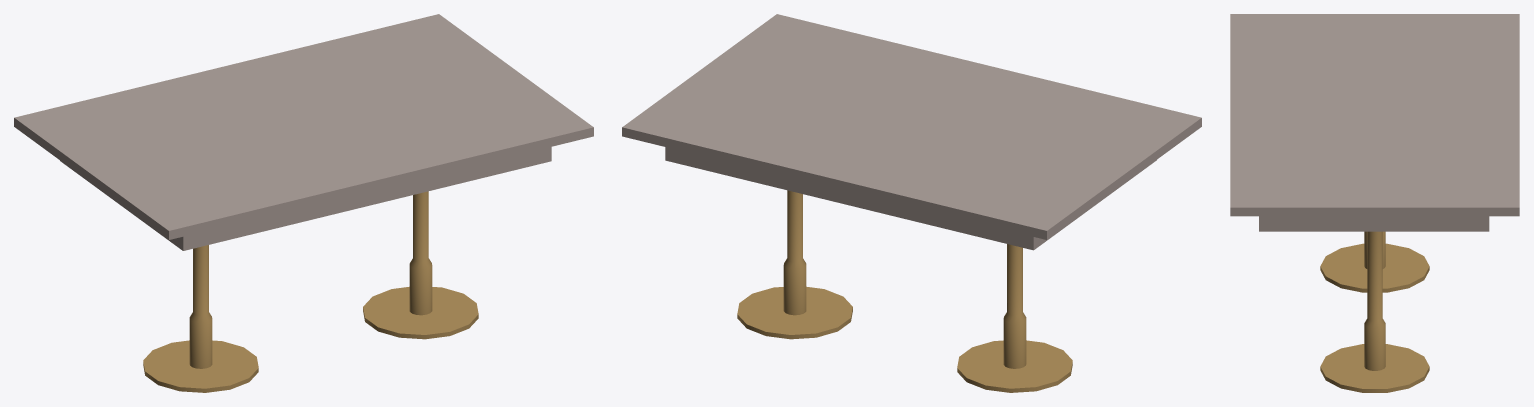
The model's file is tables011.glb.
3 views of the same model, side by side, from view 1: azimuth 30°, elevation 25°; view 2: azimuth 150°, elevation 25°; view 3: azimuth 270°, elevation 25° (orthographic). The views are drawn at different scales.
Parts seen in each view (by area): view 1: tables.011; view 2: tables.011; view 3: tables.011.
Part boxes in pixels (box(x1,y1,x2,y2)): tables.011: box(14, 14, 593, 392); tables.011: box(622, 14, 1201, 392); tables.011: box(1230, 14, 1519, 392).
Size of the model in its own units: 1.58 by 0.7864 by 1.
Materials: 1 (1 with a texture image).
